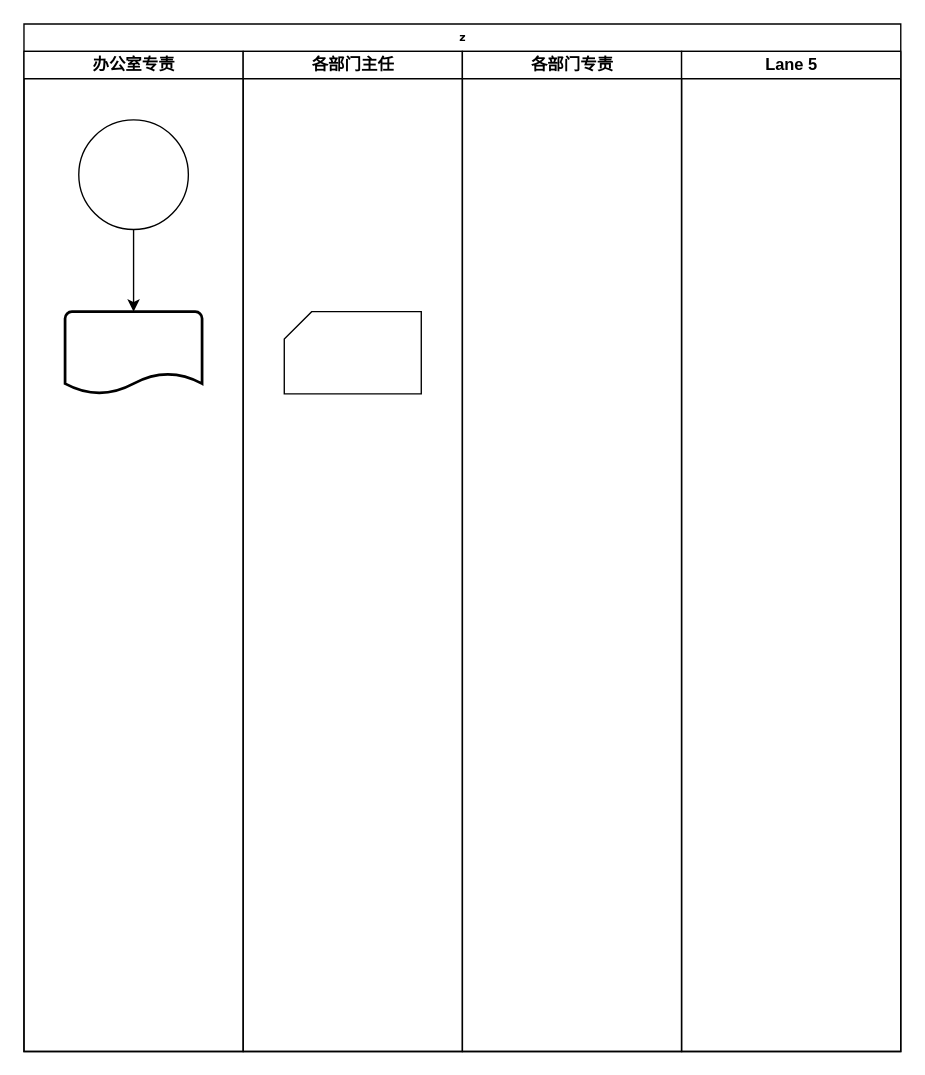
Image size: 925x1075. Some labels were removed from this diagram. Each missing label, with the centre of its shape:
创建并下发督察督办: the point at 133,352
开始: the point at 132,174
